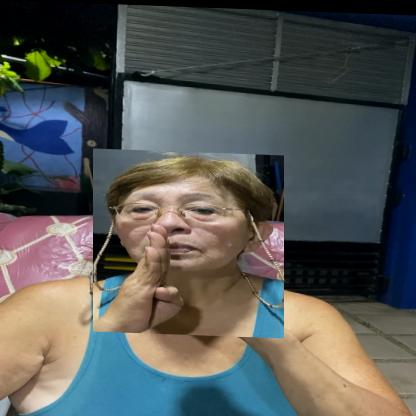Talk: (93, 148, 284, 336)
